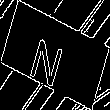N_N: (34, 24, 76, 86)
